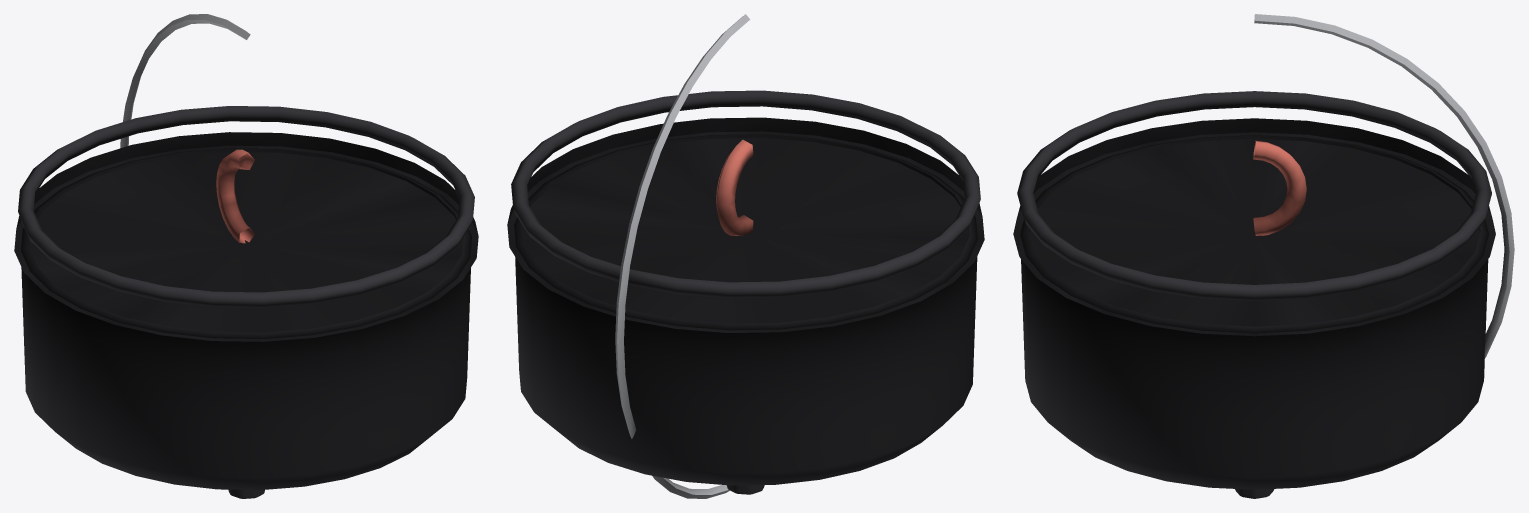
File: cook_dutch_oven.glb
The picture shows the model from 3 angles, left to right: view 1: azimuth 30°, elevation 25°; view 2: azimuth 150°, elevation 25°; view 3: azimuth 270°, elevation 25°; orthographic projection. The views are drawn at different scales.
Visible parts, largest first — view 1: PART; view 2: PART; view 3: PART.
Part boxes in pixels (x1,y1,x2,y2): PART: (14, 14, 478, 498); PART: (507, 14, 984, 498); PART: (1013, 14, 1514, 498).
Bounding box in the file's own units: 0.284 × 0.306 × 0.295.
